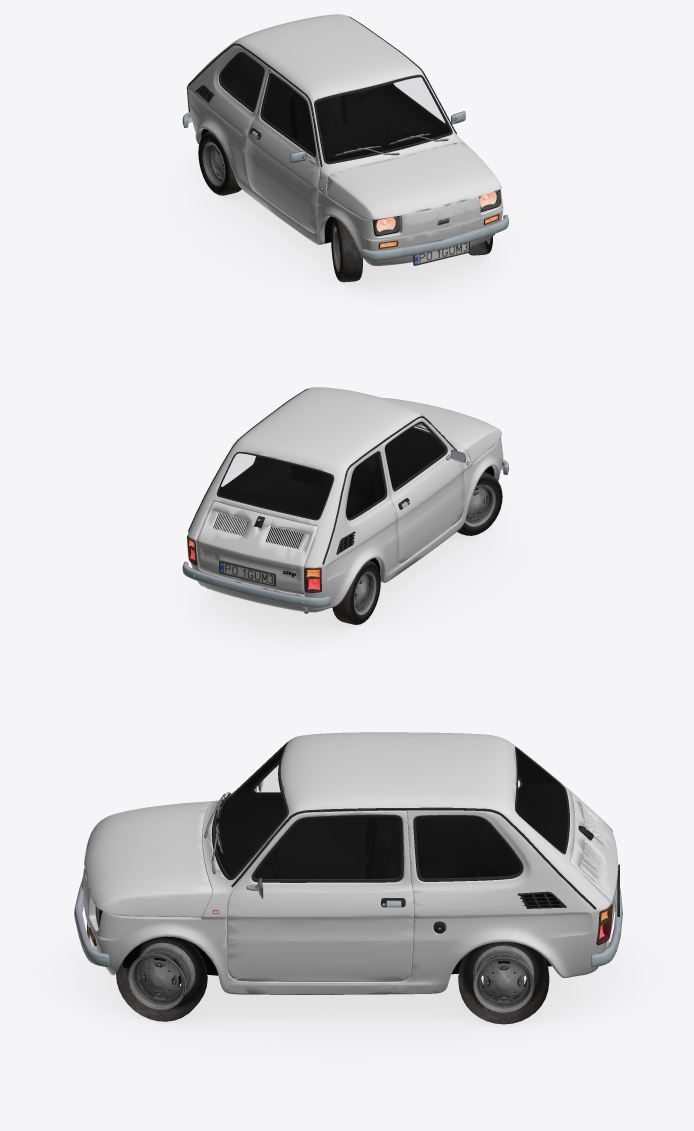
The model's file is car.glb.
3 renders of one model, top to bottom at view 1: azimuth 30°, elevation 25°; view 2: azimuth 150°, elevation 25°; view 3: azimuth 270°, elevation 25°, orthographic. The views are drawn at different scales.
Visible parts, largest first — view 1: Object_6, Object_4, Object_7, Object_9, Object_26, Object_8, Object_25, Object_11, Object_18, Object_15; view 2: Object_6, Object_4, Object_7, Object_9, Object_26, Object_8, Object_25, Object_15, Object_11, Object_17; view 3: Object_6, Object_4, Object_7, Object_9, Object_25, Object_26, Object_8.
Part boxes in pixels (left/top/right/bottom): Object_6: left=188, top=14, right=503, bottom=265; Object_4: left=179, top=151, right=509, bottom=303; Object_7: left=199, top=53, right=450, bottom=243; Object_9: left=187, top=16, right=500, bottom=265; Object_26: left=198, top=131, right=492, bottom=282; Object_8: left=182, top=111, right=508, bottom=260; Object_25: left=202, top=142, right=490, bottom=271; Object_11: left=224, top=77, right=450, bottom=131; Object_18: left=375, top=191, right=500, bottom=234; Object_15: left=414, top=242, right=468, bottom=264; Object_6: left=188, top=387, right=503, bottom=612; Object_4: left=184, top=504, right=512, bottom=651; Object_7: left=213, top=428, right=494, bottom=572; Object_9: left=187, top=388, right=469, bottom=592; Object_26: left=207, top=471, right=502, bottom=624; Object_8: left=182, top=450, right=508, bottom=607; Object_25: left=354, top=484, right=495, bottom=615; Object_15: left=220, top=562, right=274, bottom=585; Object_11: left=221, top=424, right=431, bottom=486; Object_17: left=187, top=536, right=320, bottom=592; Object_6: left=82, top=732, right=618, bottom=994; Object_4: left=47, top=932, right=650, bottom=1050; Object_7: left=123, top=748, right=567, bottom=984; Object_9: left=87, top=740, right=619, bottom=945; Object_25: left=128, top=942, right=534, bottom=1012; Object_26: left=116, top=936, right=549, bottom=1024; Object_8: left=74, top=780, right=622, bottom=967.
Bounding box in the file's own units: 3.67 × 1.31 × 3.67.
Materials: 21 (14 with a texture image).
